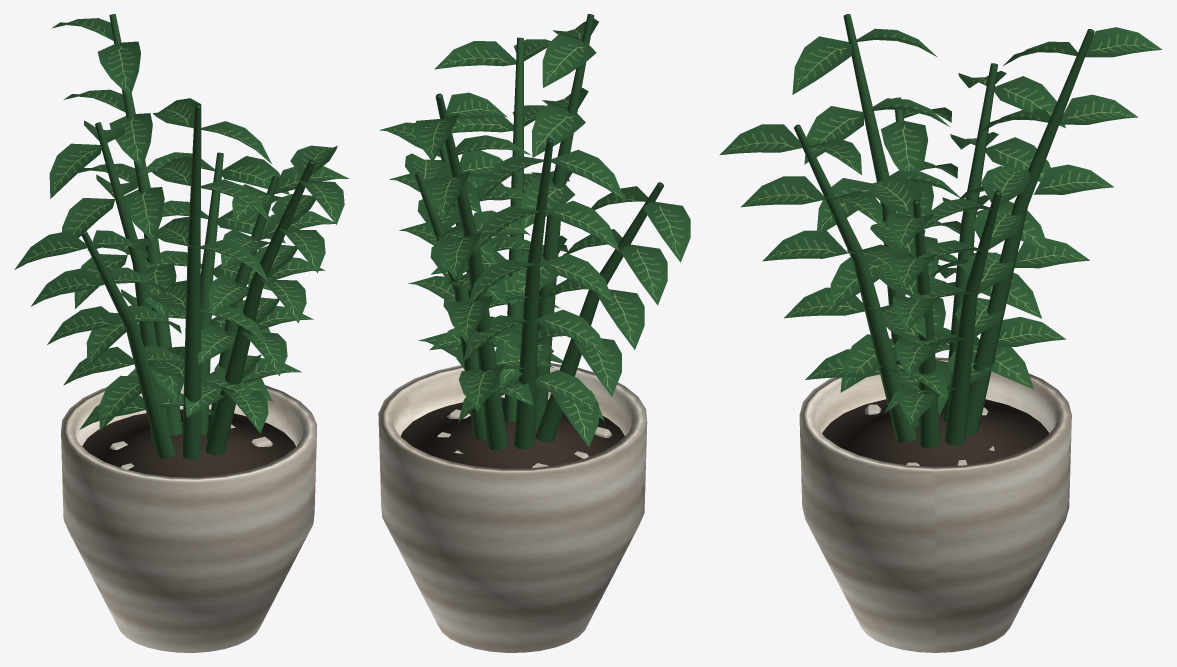
Rendered from obj_plant_zz_countertop.glb.
3 views of the same model, side by side, from view 1: azimuth 30°, elevation 25°; view 2: azimuth 150°, elevation 25°; view 3: azimuth 270°, elevation 25° (orthographic). The views are drawn at different scales.
Parts seen in each view (by area): view 1: obj_plant_zz_countertop; view 2: obj_plant_zz_countertop; view 3: obj_plant_zz_countertop.
Part boxes in pixels (left/top/right/bottom): obj_plant_zz_countertop: left=14, top=14, right=349, bottom=652; obj_plant_zz_countertop: left=378, top=14, right=690, bottom=652; obj_plant_zz_countertop: left=719, top=14, right=1162, bottom=652.
Size of the model in its own units: 0.2943 by 0.5015 by 0.3419.
5 materials, 2 textured.
